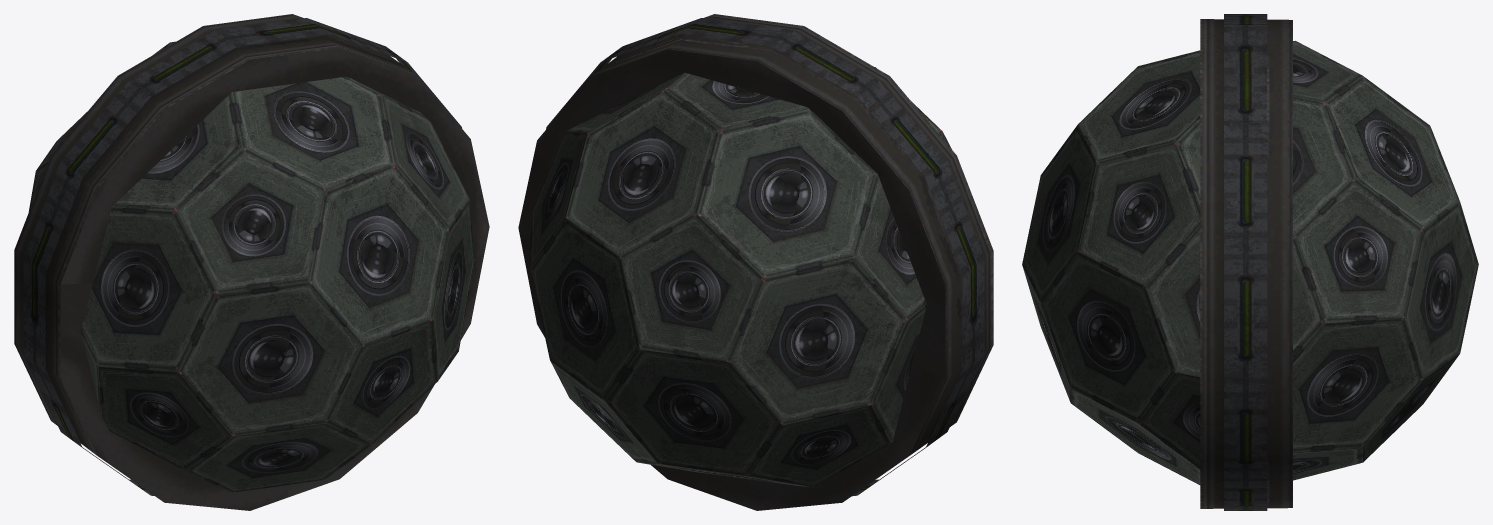
Rendered from t6_wpn_motion_sensor_world_LOD1.obj.
3 renders of one model, left to right at view 1: azimuth 30°, elevation 25°; view 2: azimuth 150°, elevation 25°; view 3: azimuth 270°, elevation 25°, orthographic.
Parts seen in each view (by area): view 1: mtl_t6_wpn_motion_sensor; view 2: mtl_t6_wpn_motion_sensor; view 3: mtl_t6_wpn_motion_sensor.
Boxes of the visible parts, x1=… form: mtl_t6_wpn_motion_sensor: x1=14, y1=14, x2=489, y2=510; mtl_t6_wpn_motion_sensor: x1=518, y1=14, x2=993, y2=510; mtl_t6_wpn_motion_sensor: x1=1022, y1=14, x2=1478, y2=510.
Bounding box in the file's own units: 12.42 × 12.49 × 11.48.
